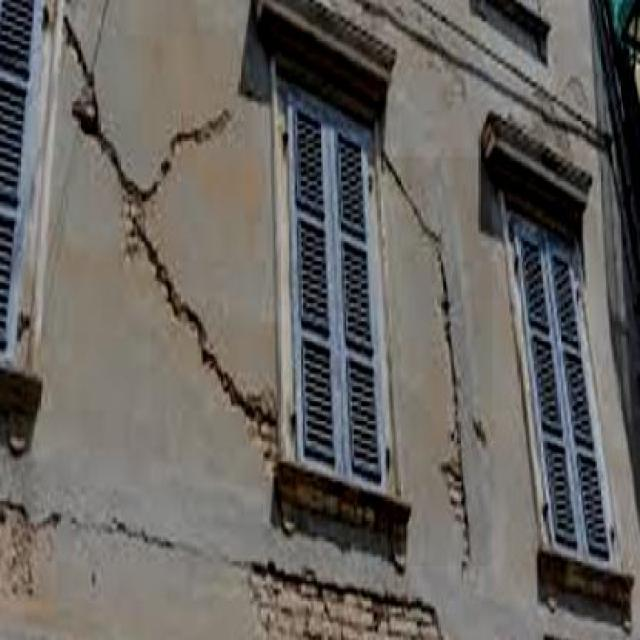Crack: (64, 23, 276, 440), (383, 147, 500, 580), (48, 507, 216, 562)
